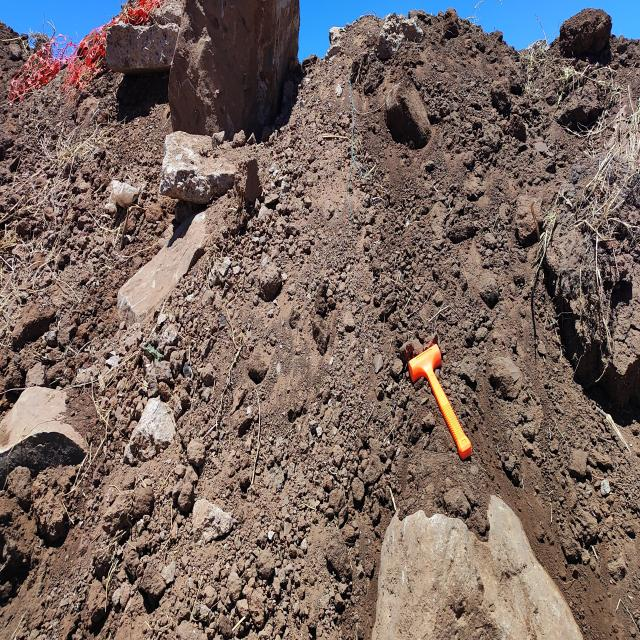Orange_hammer: (407, 337, 472, 461)
